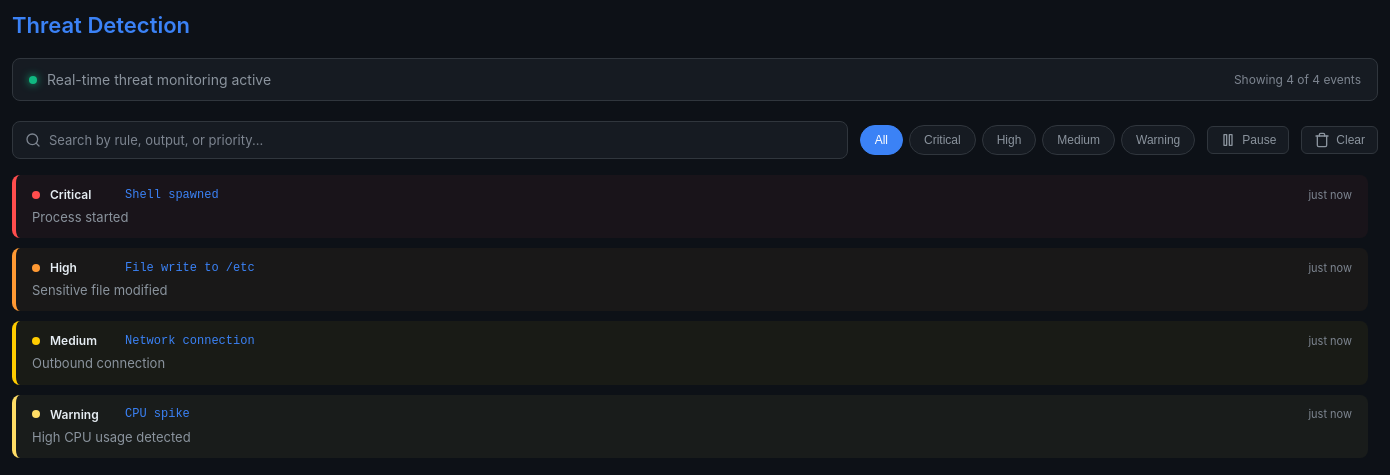
Scenario: ThreatPanel › clears all threats and resets pause state
# Pause first
Click the button "Pause": (1248, 140) [1207, 126, 1289, 154]
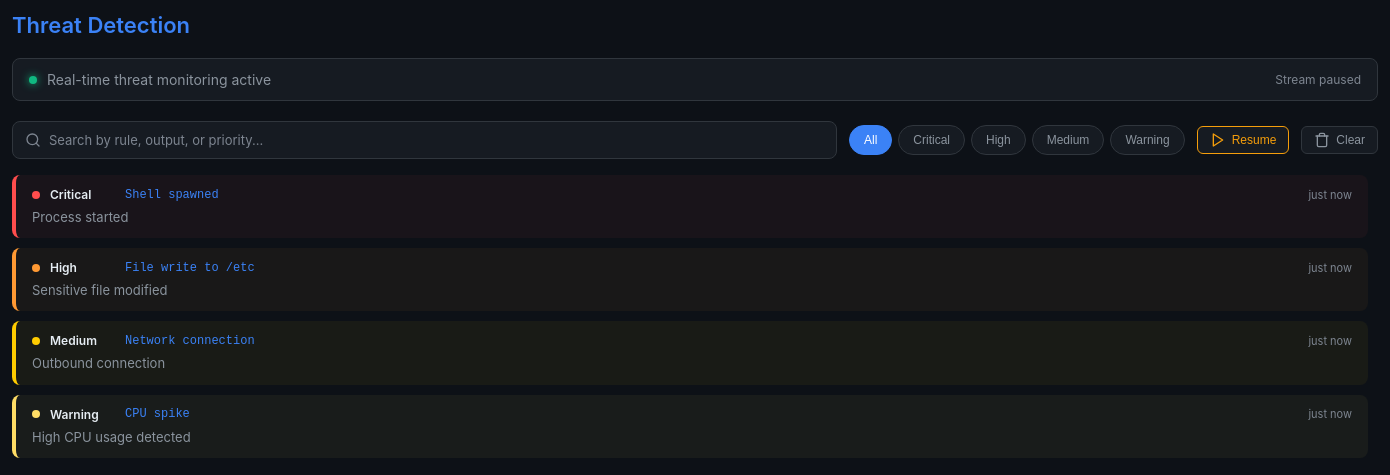
Result: the text "Resume" is shown at [1232, 133, 1276, 147]
# Clear: unpauses, onClear is called, status reverts to showing count
Click the button "Clear": (1340, 140) [1301, 126, 1378, 154]
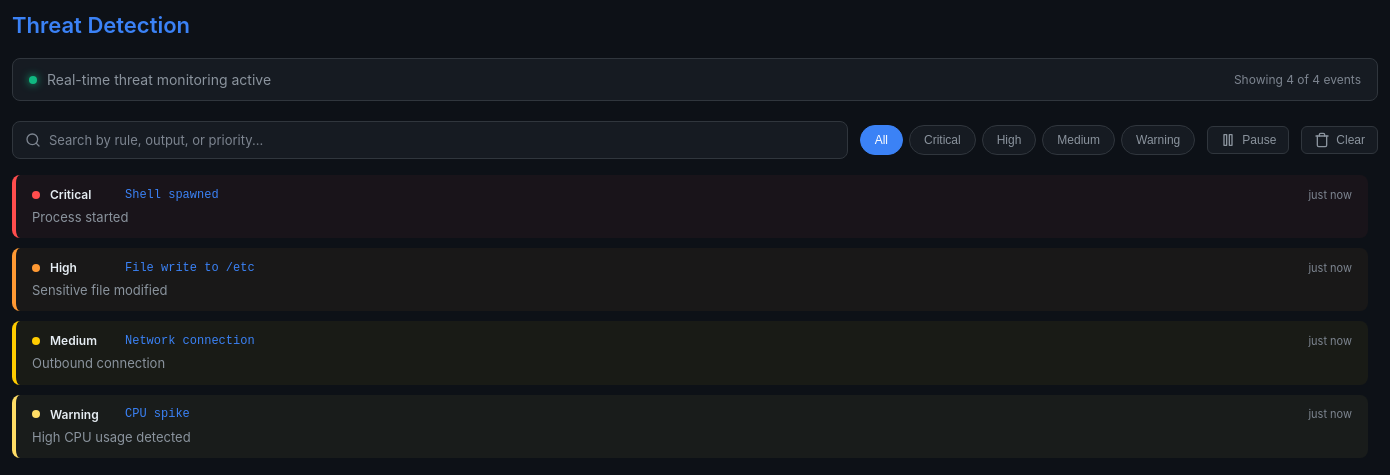
Result: the text "Pause" is shown at [1242, 133, 1276, 147]
Result: the text "Showing 4 of 4 events" is shown at [1234, 72, 1361, 87]
